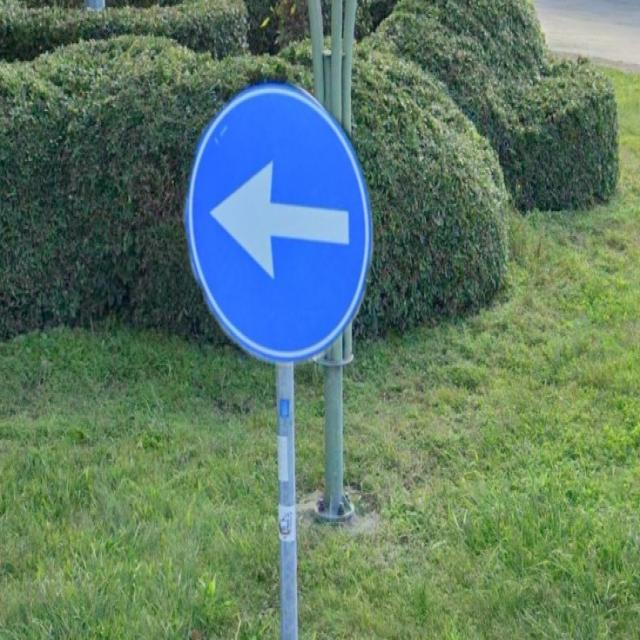Turn Left: (189, 84, 370, 371)
